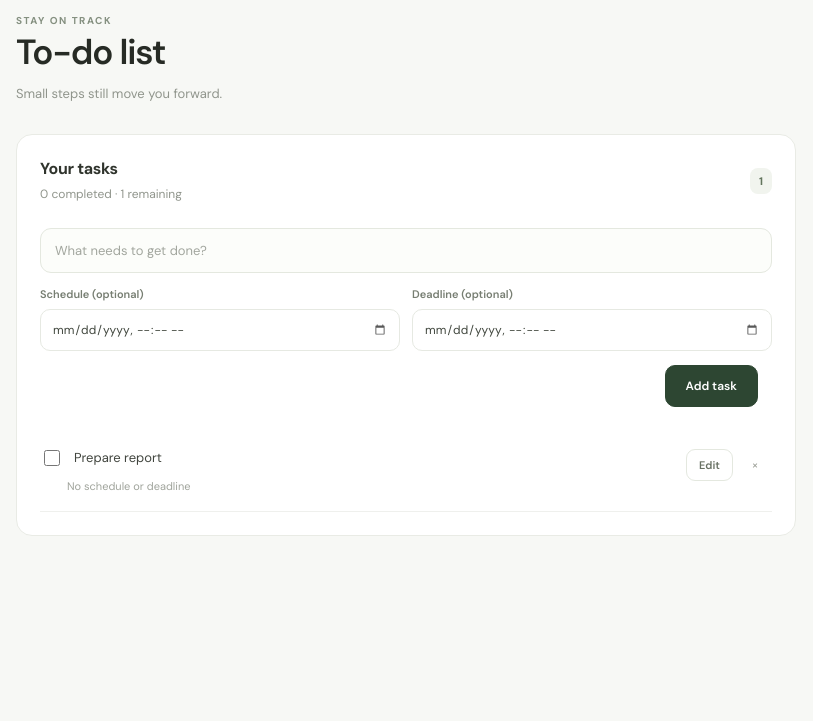
Test: TasksPage › edits a task schedule and deadline
Expected: the text "Prepare report" is shown, x1=74 y1=448 x2=162 y2=469
Step 1. Click the button named "Edit schedule and deadline for Prepare report" → (710, 465), box x1=686 y1=449 x2=733 y2=481
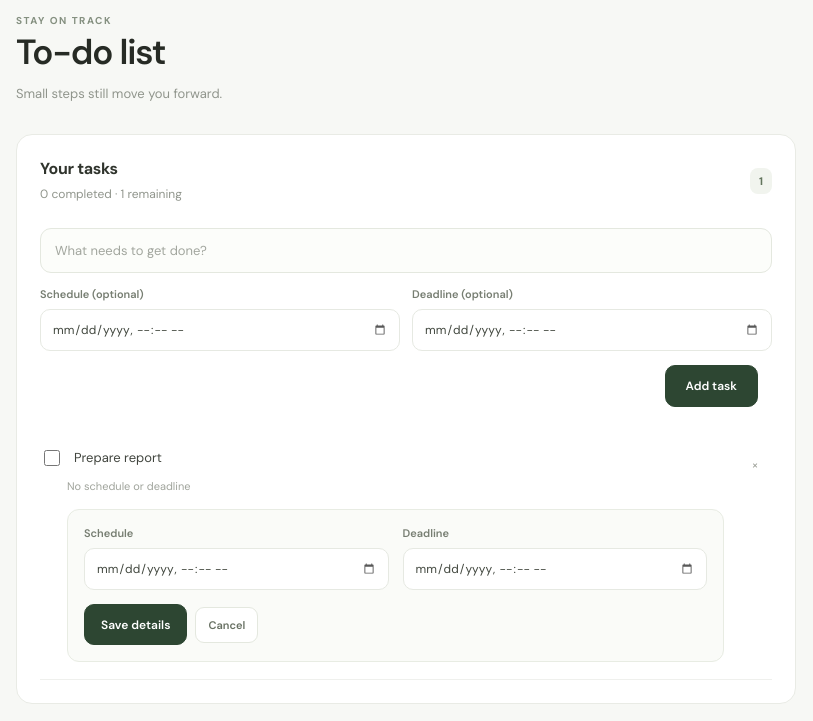
Step 2. Type "2026-10-20T10:30" into the field named "Schedule for Prepare report" → (236, 570), box x1=84 y1=548 x2=388 y2=590
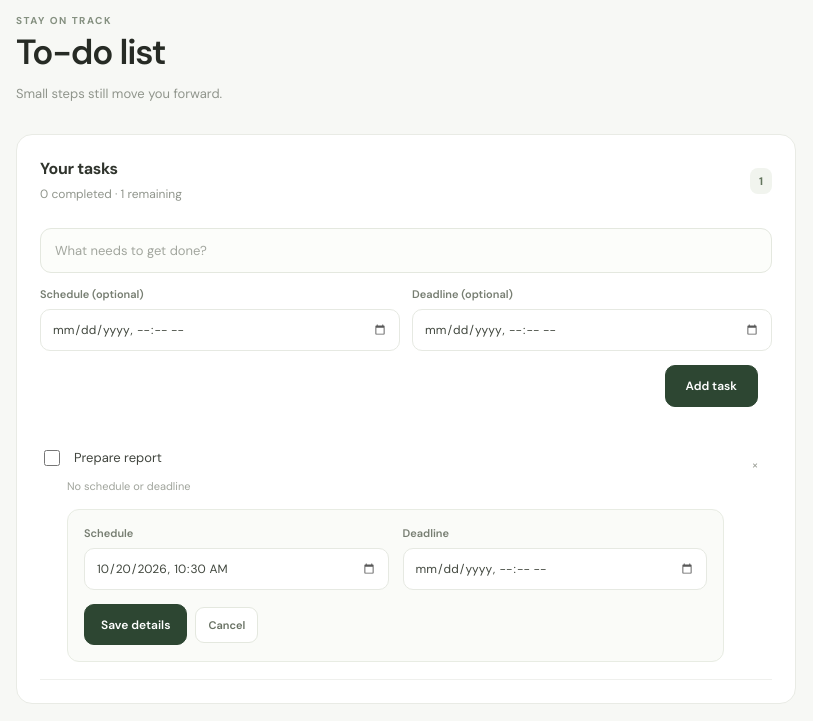
Step 3. Type "2026-10-21T16:00" into the field named "Deadline for Prepare report" → (555, 570), box x1=402 y1=548 x2=707 y2=590
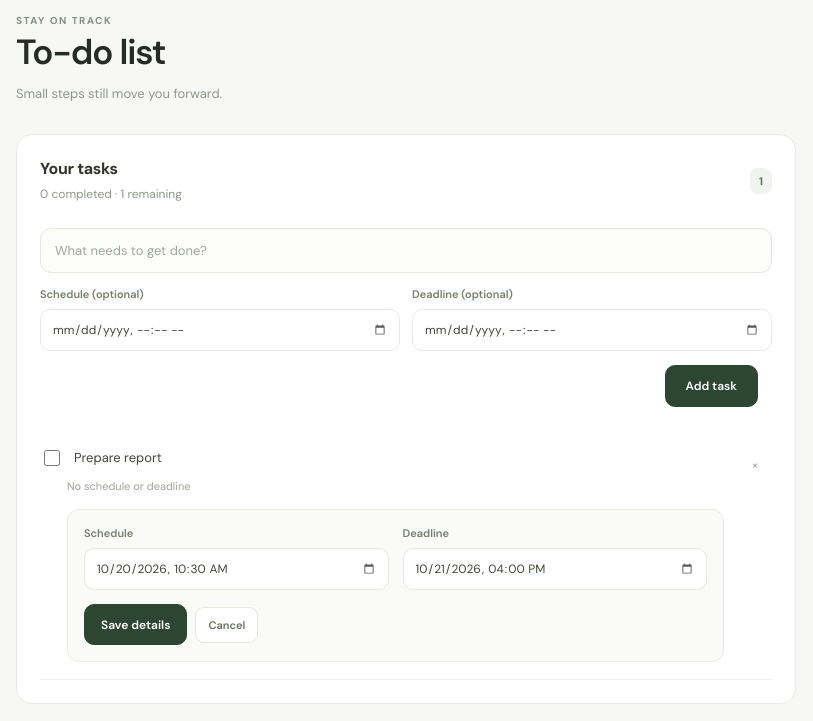
Step 4. Click the button "Save details" → (136, 625), box x1=84 y1=604 x2=187 y2=646
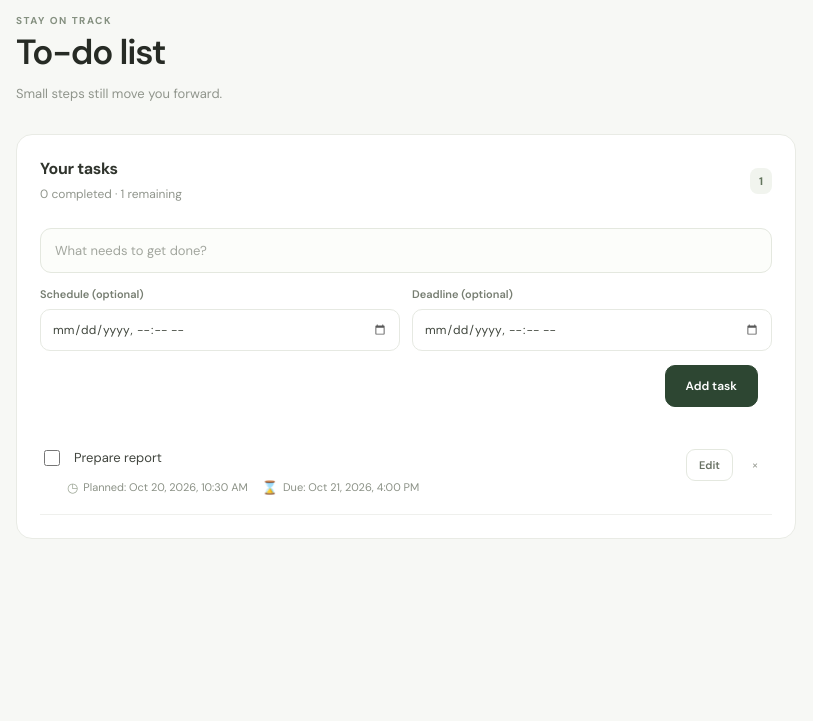
Expected: the button "Save details" is gone
